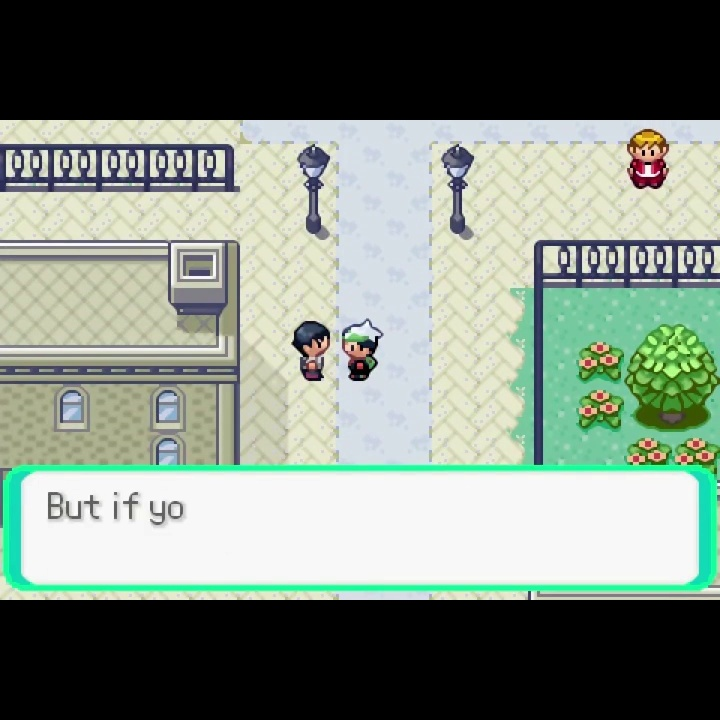house: (1, 238, 243, 467)
npc: (338, 315, 387, 382), (624, 127, 673, 191), (288, 318, 333, 386)
wall: (624, 321, 720, 434)
